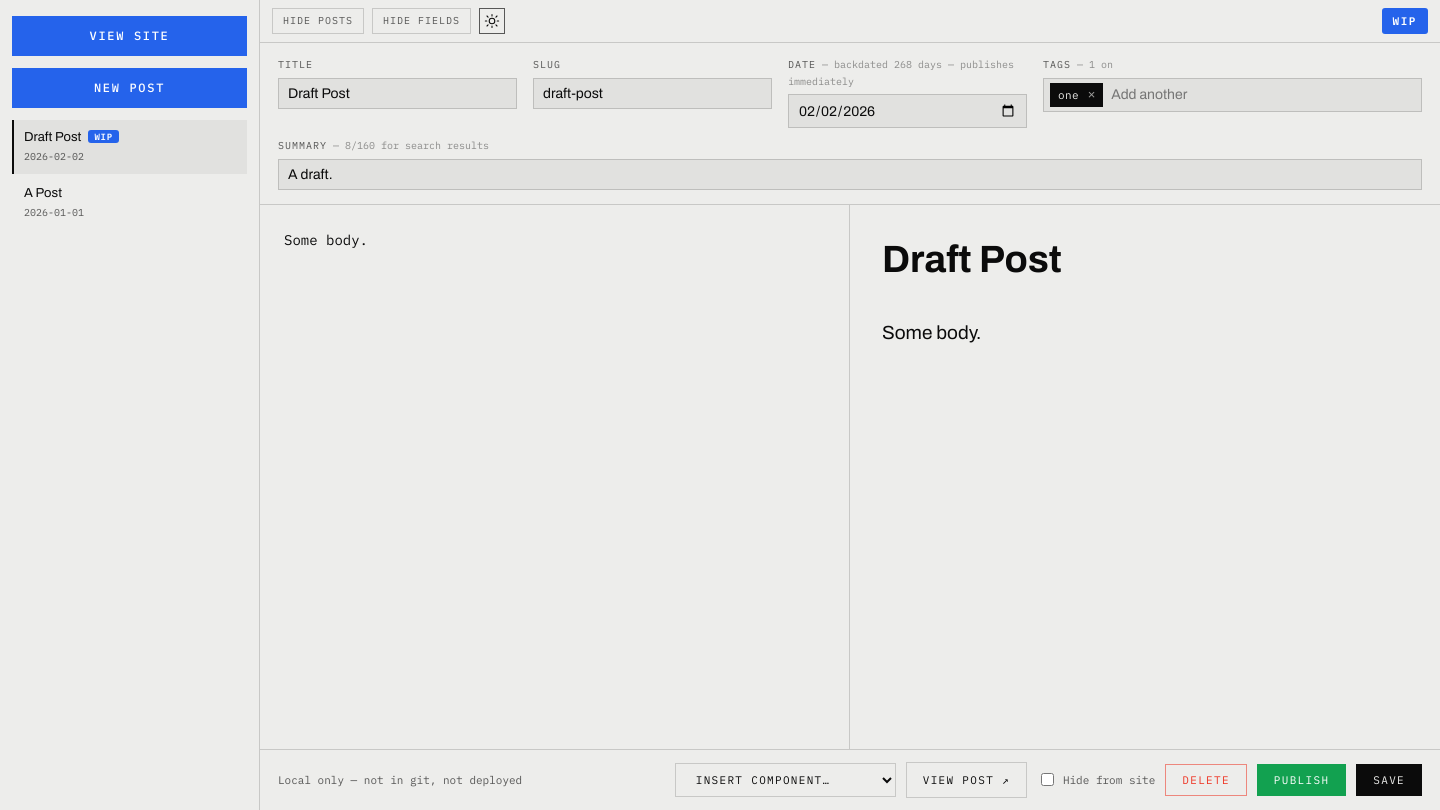
Test: the tag picker › adds an existing tag by clicking it
Click the dropdown labelled "Tags — 1 on" at (1262, 95), box [1108,83,1415,106]
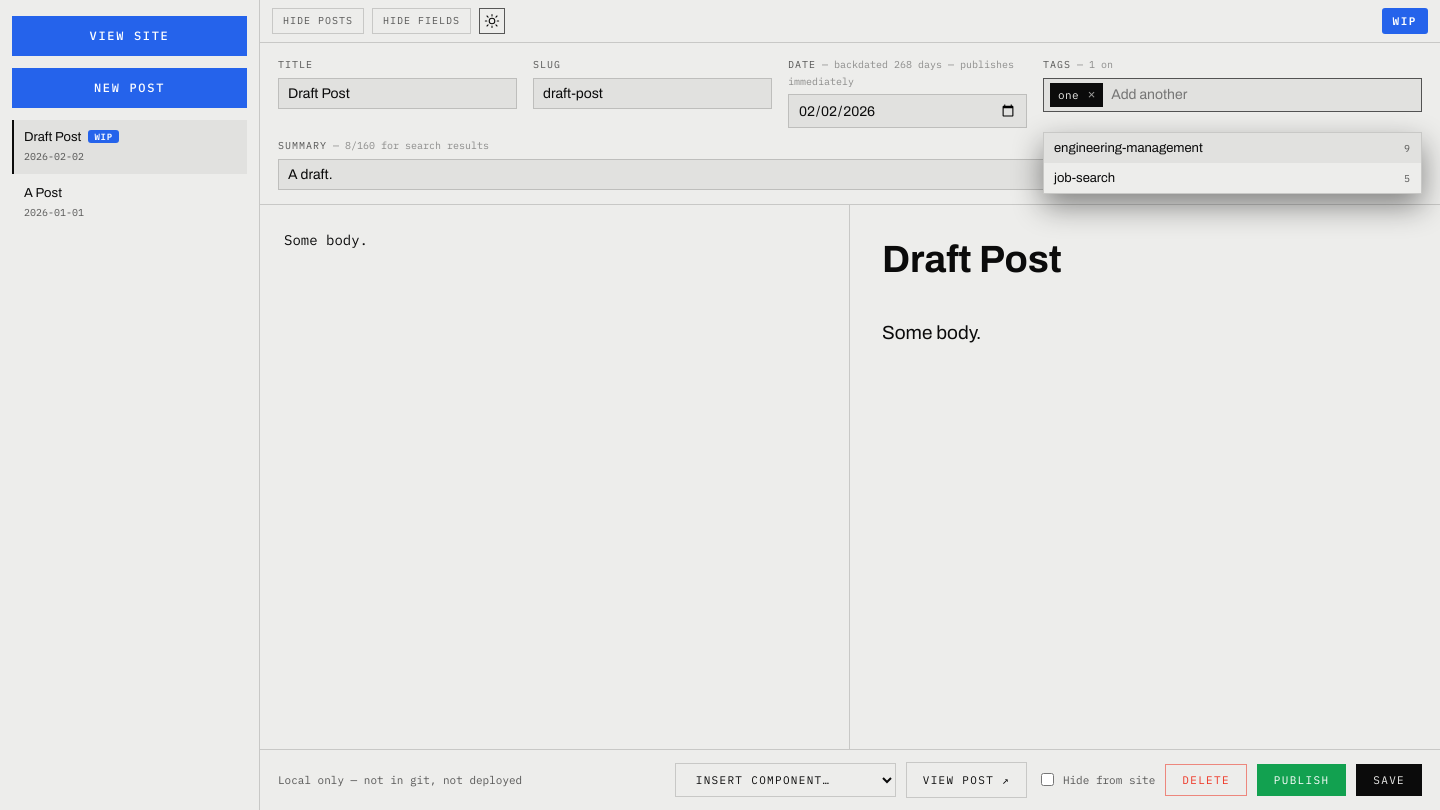
Click the option "job-search 5" at (1085, 178), box [1044,163,1421,193]
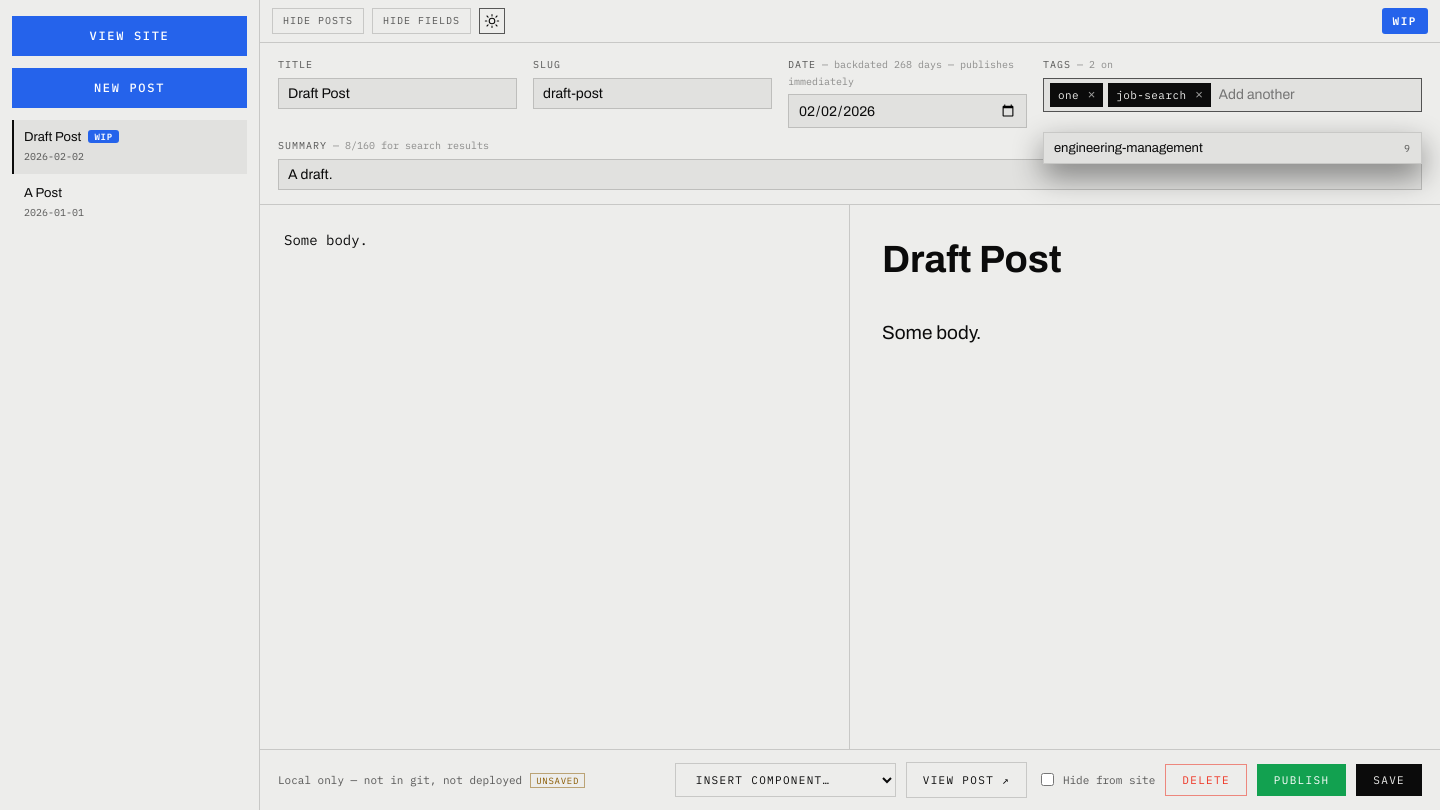
Expected: the button named "Remove job-search" is shown, [1192,87,1206,102]
